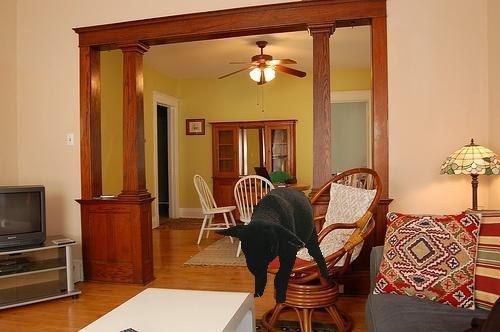tampered: (216, 188, 328, 303)
